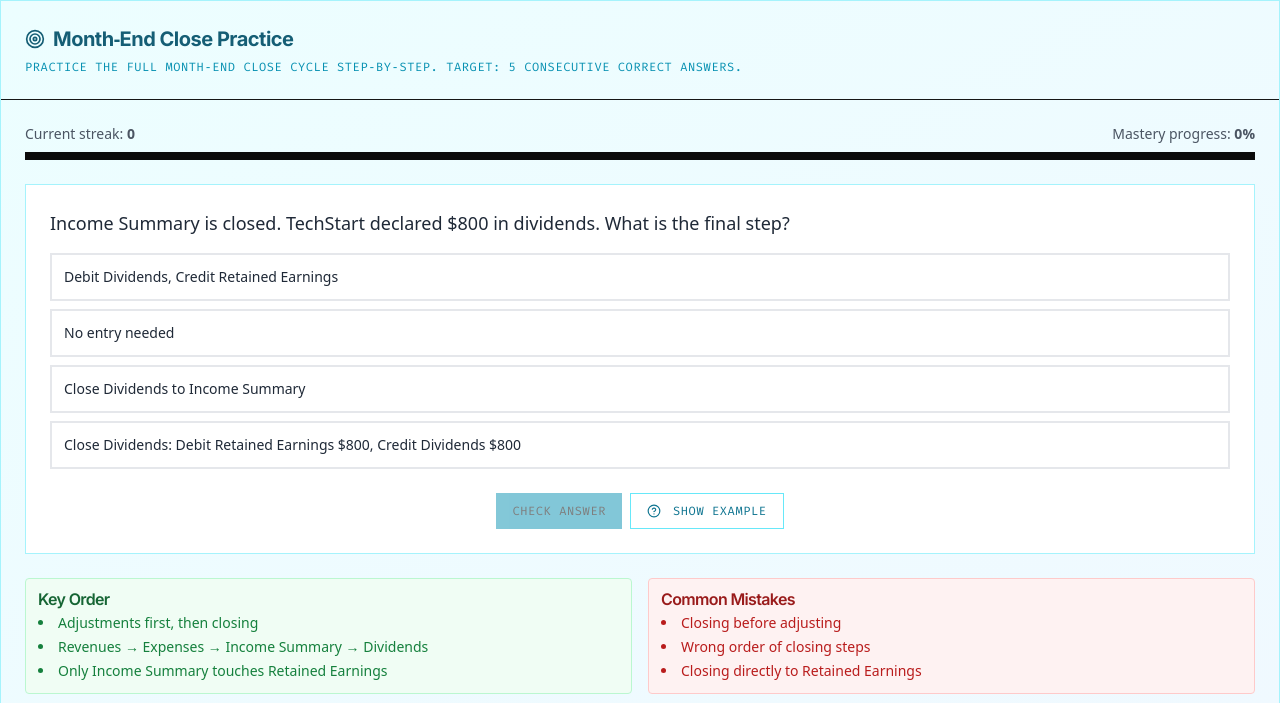
Test: MonthEndClosePractice › shows feedback after answer submission
The width and height of the screenshot is (1280, 703).
What coordinates should you click on to do the following:
click the button "Debit Dividends, Credit Retained Earnings"
I would click on:
 (201, 276)
Its box is [50,253,1230,301].
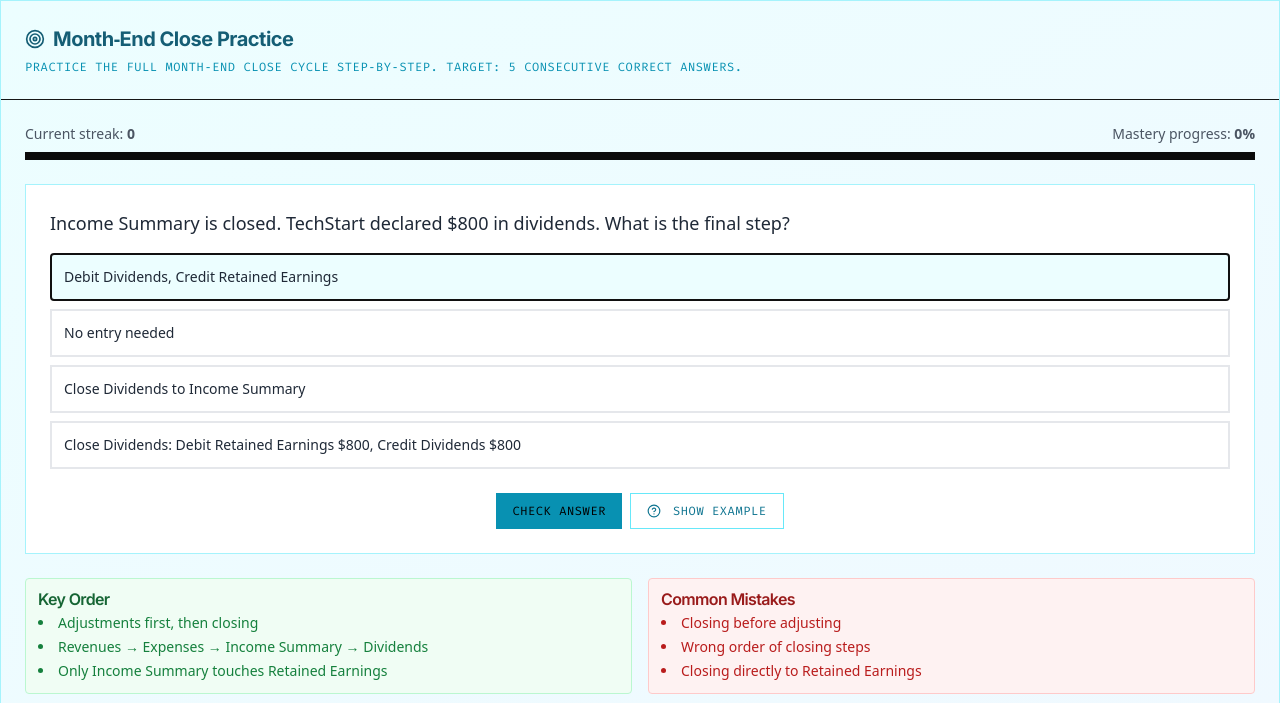
What coordinates should you click on to do the following:
click the button "Check Answer"
I would click on:
 (559, 511)
Its box is [496,493,622,529].
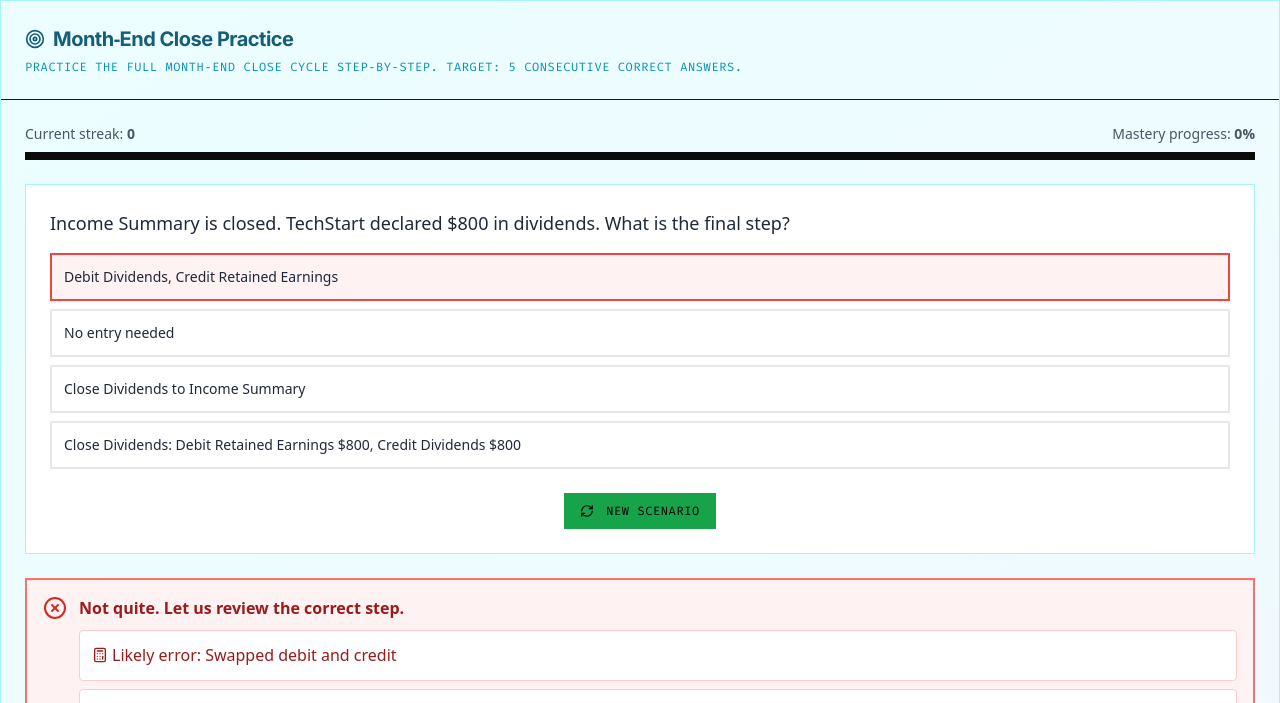
Expected: the text "Not quite. Let us review the correct step." is shown, [79,597,404,619]
